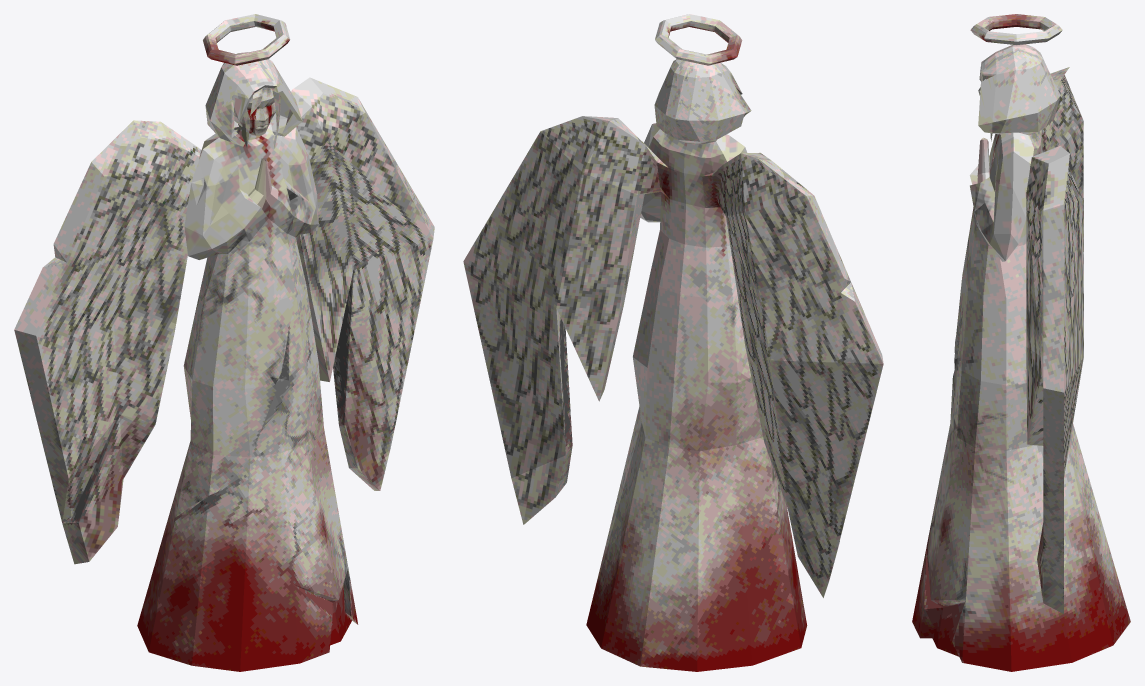
File: statur.fbx
The picture shows the model from 3 angles, left to right: view 1: azimuth 30°, elevation 25°; view 2: azimuth 150°, elevation 25°; view 3: azimuth 270°, elevation 25°; orthographic projection.
Visible parts, largest first — view 1: statur.001, Torus.002, head.001; view 2: statur.001, Torus.002; view 3: statur.001, Torus.002.
Boxes of the visible parts, x1,y1,x2,y2 form: statur.001: (14, 52, 434, 671); Torus.002: (203, 14, 290, 65); head.001: (234, 87, 280, 148); statur.001: (463, 59, 883, 671); Torus.002: (655, 14, 742, 65); statur.001: (912, 44, 1130, 671); Torus.002: (970, 14, 1062, 44).
Bounding box in the file's own units: 137 × 186 × 61.15.
3 materials, 3 textured.
